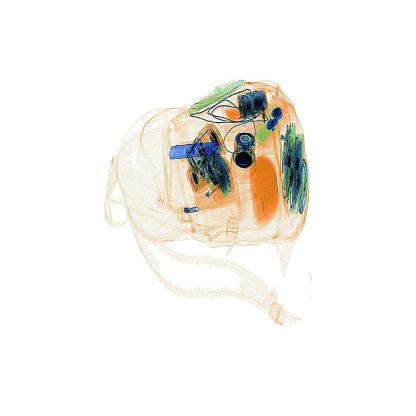pliers: (166, 133, 228, 171)
